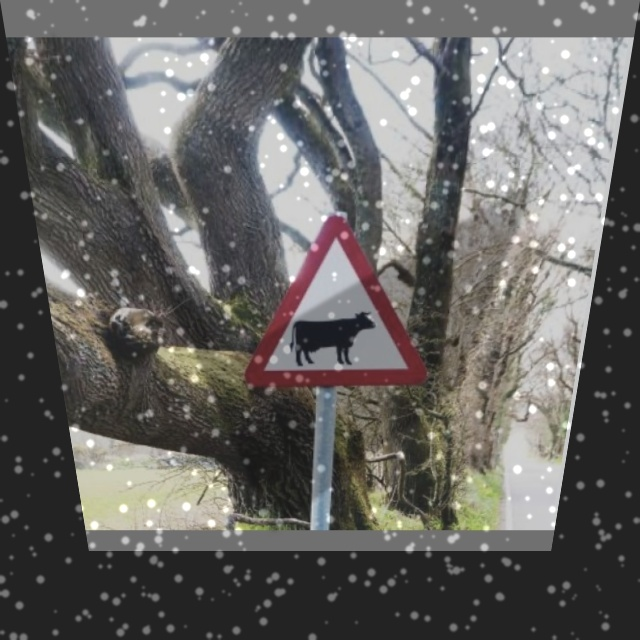Cattle: (240, 212, 444, 388)
